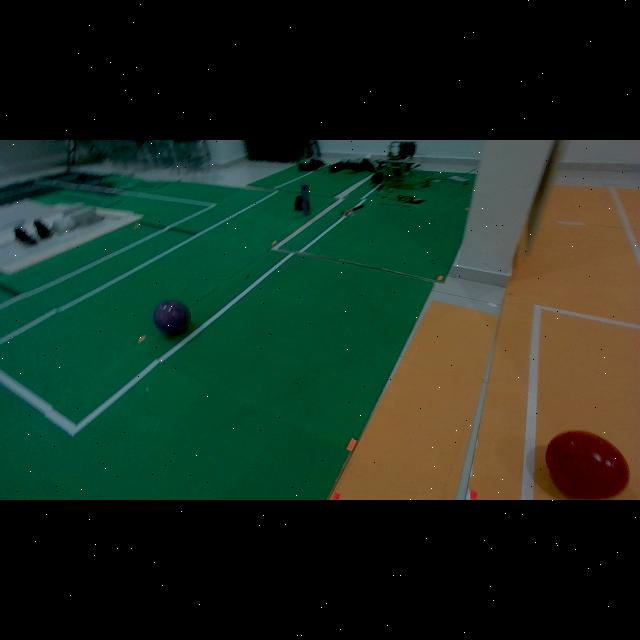P: (154, 301, 191, 335)
R: (545, 431, 629, 498)
